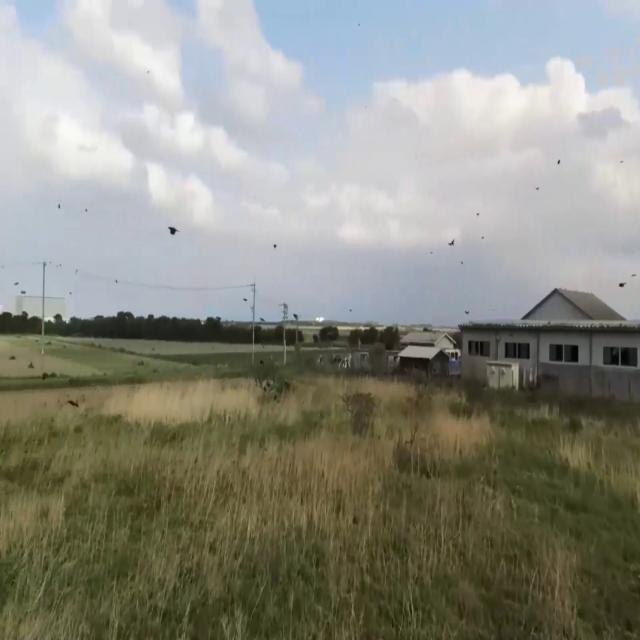bird: (168, 216, 178, 246), (618, 274, 627, 296), (448, 232, 455, 253)
